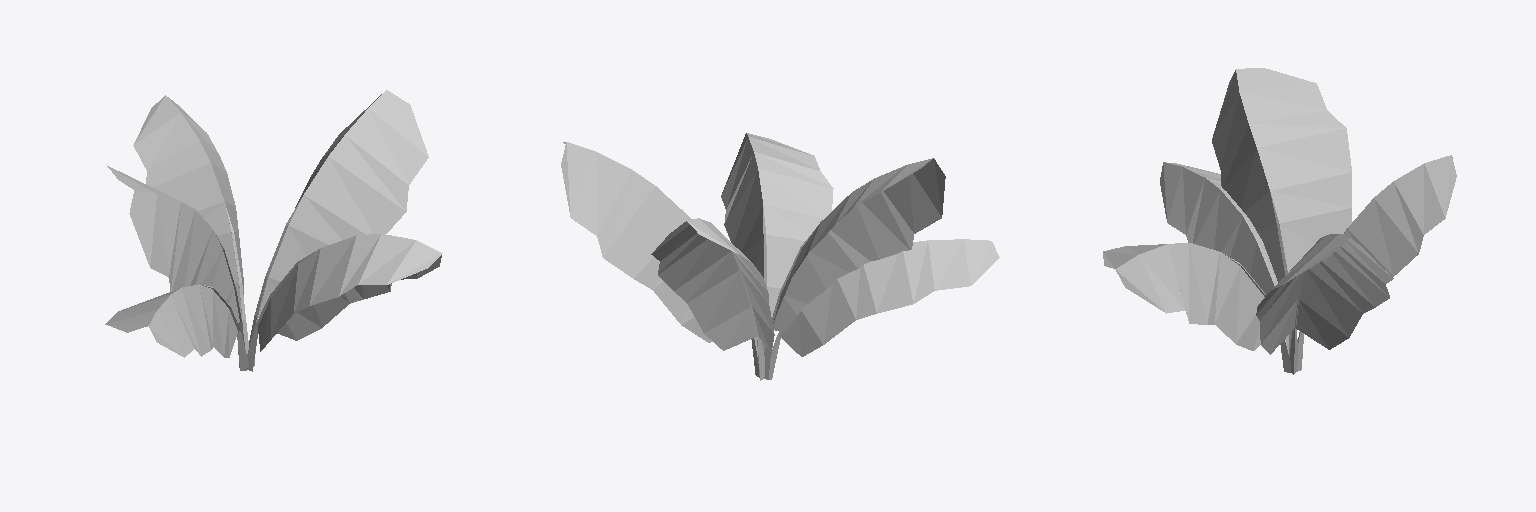
Rendered from banana plant 02_lod2.obj.
3 views of the same model, side by side, from view 1: azimuth 30°, elevation 25°; view 2: azimuth 150°, elevation 25°; view 3: azimuth 270°, elevation 25° (orthographic).
Parts seen in each view (by area): view 1: tree; view 2: tree; view 3: tree.
Part boxes in pixels (left/top/right/bottom): tree: left=105, top=90, right=442, bottom=371; tree: left=561, top=133, right=999, bottom=380; tree: left=1103, top=68, right=1456, bottom=374.
Bounding box in the file's own units: 250 × 156 × 213.